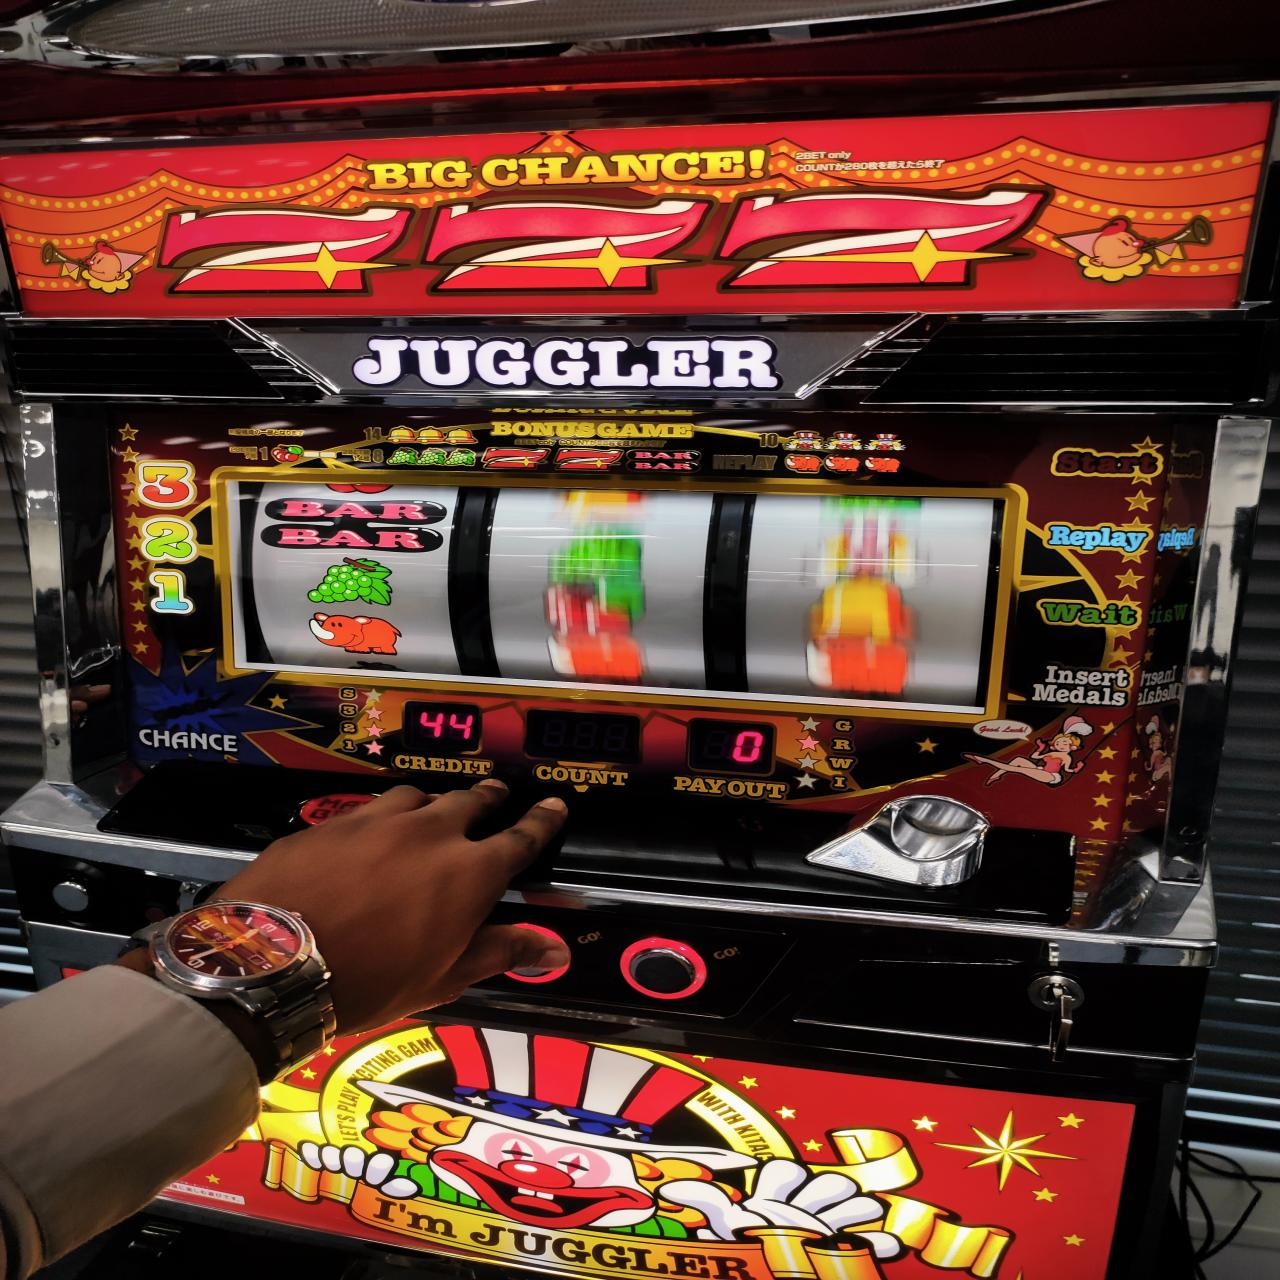8: (306, 613, 403, 655)
bar: (264, 493, 445, 553)
grape: (308, 557, 397, 602)
rhino: (232, 475, 1003, 719)
